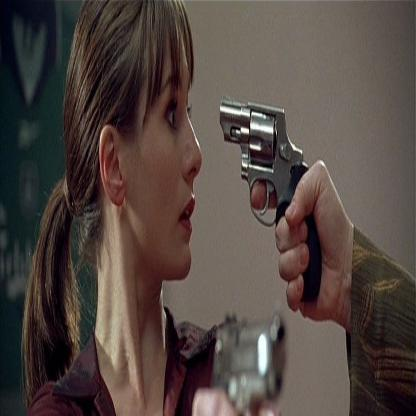gun: (210, 52, 326, 314)
